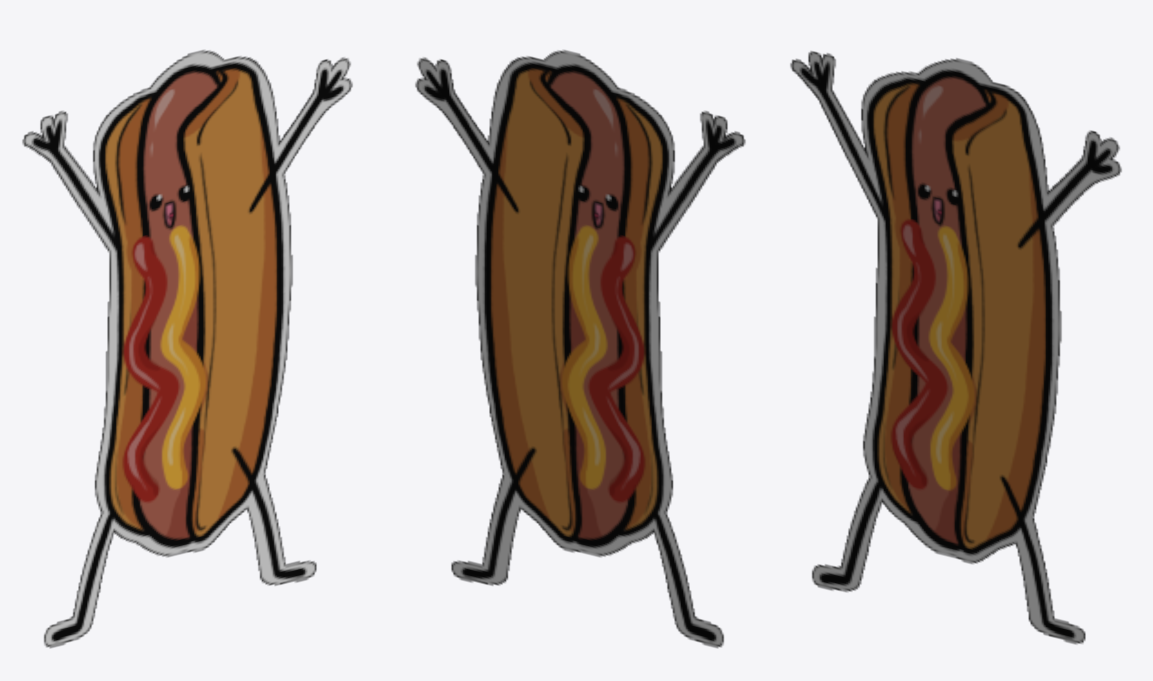
Rendered from Sticker_05.glb.
3 renders of one model, left to right at view 1: azimuth 30°, elevation 25°; view 2: azimuth 150°, elevation 25°; view 3: azimuth 330°, elevation 25°, orthographic.
Visible parts, largest first — view 1: Sticker_05; view 2: Sticker_05; view 3: Sticker_05.
Boxes of the visible parts, x1,y1,x2,y2 form: Sticker_05: [22, 50, 352, 648]; Sticker_05: [415, 50, 745, 648]; Sticker_05: [790, 51, 1121, 644].
Bounding box in the file's own units: 2.87 × 4.77 × 5.85e-06.
Materials: 1 (1 with a texture image).
